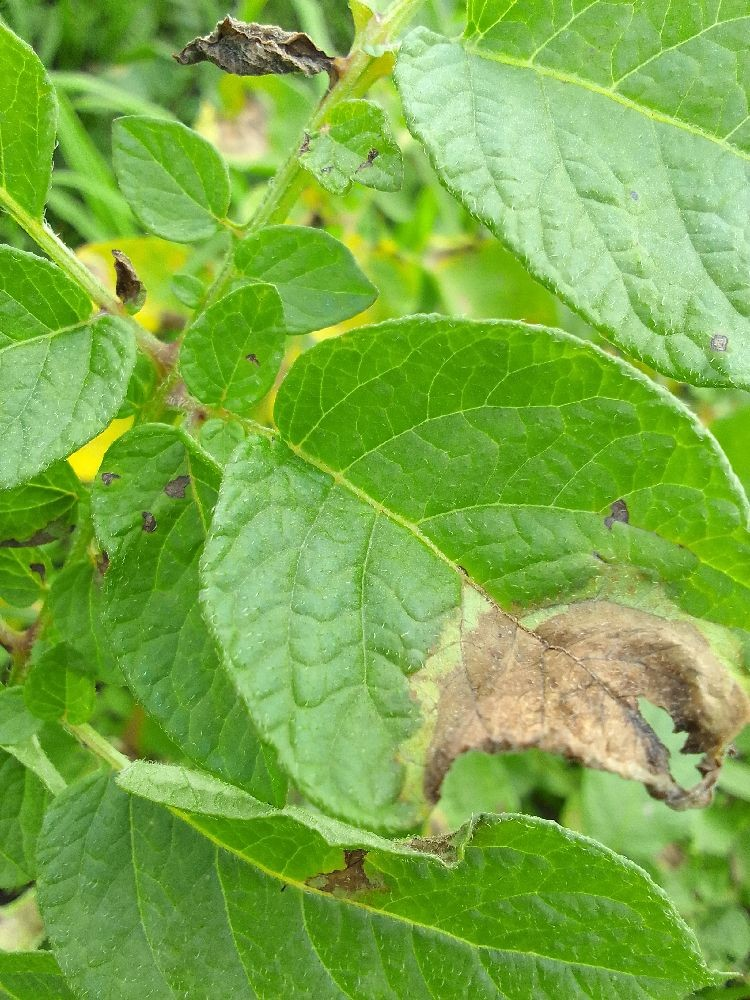late_blight: (398, 584, 749, 870), (157, 0, 376, 108)
